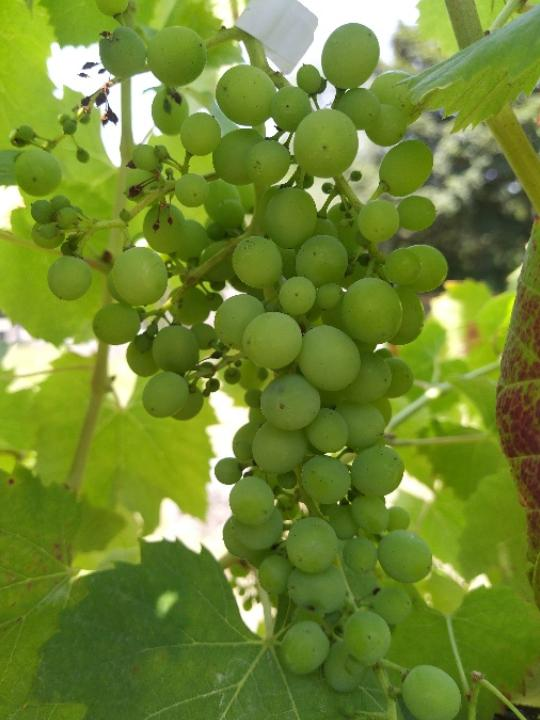grape: (9, 0, 463, 720)
